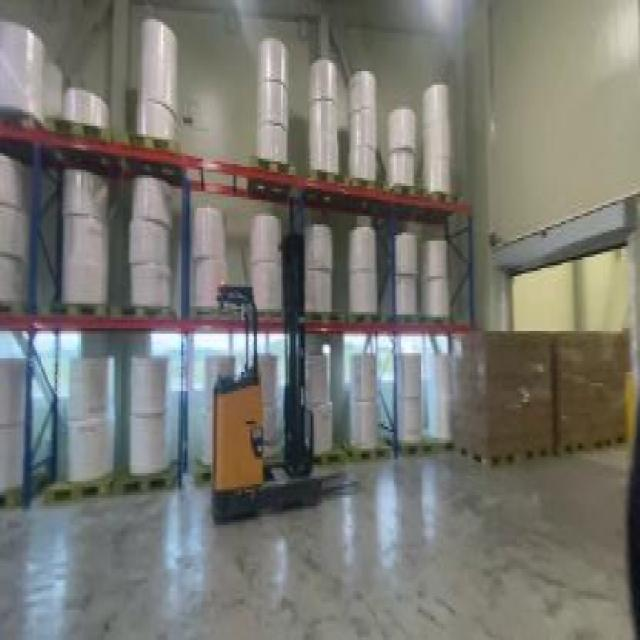box: (457, 326, 557, 470), (554, 314, 634, 452), (51, 164, 118, 312), (46, 358, 117, 490), (122, 353, 180, 484), (126, 175, 177, 317), (0, 148, 40, 306), (1, 350, 37, 509), (0, 11, 46, 131), (246, 342, 289, 457), (189, 205, 231, 315), (243, 216, 291, 312), (348, 219, 386, 331), (195, 353, 232, 468), (303, 350, 339, 462), (302, 216, 338, 323)
robot: (211, 230, 360, 517)
white_roll: (248, 41, 295, 175), (134, 17, 178, 154), (420, 66, 457, 208), (394, 232, 451, 323), (344, 66, 382, 192), (346, 347, 386, 465), (304, 60, 342, 183), (388, 347, 429, 457), (51, 85, 112, 142), (383, 104, 417, 200), (428, 350, 458, 454)
